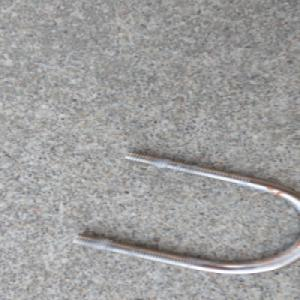ClampPart: (72, 150, 300, 275)
